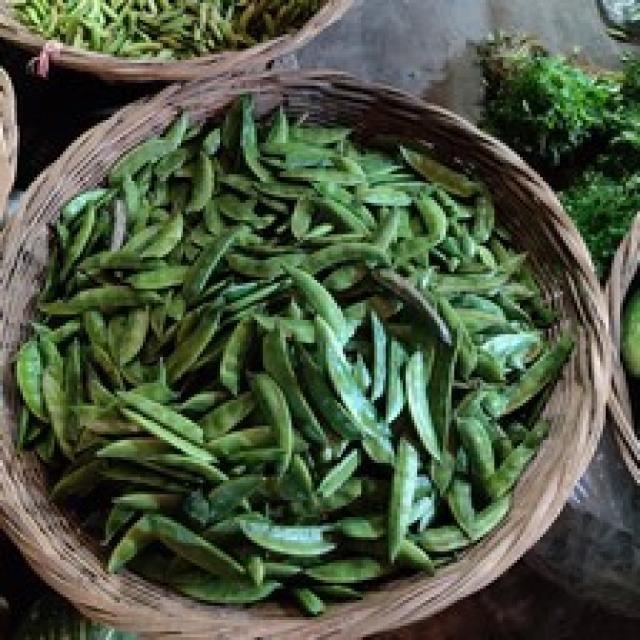Bean: (12, 91, 574, 614)
